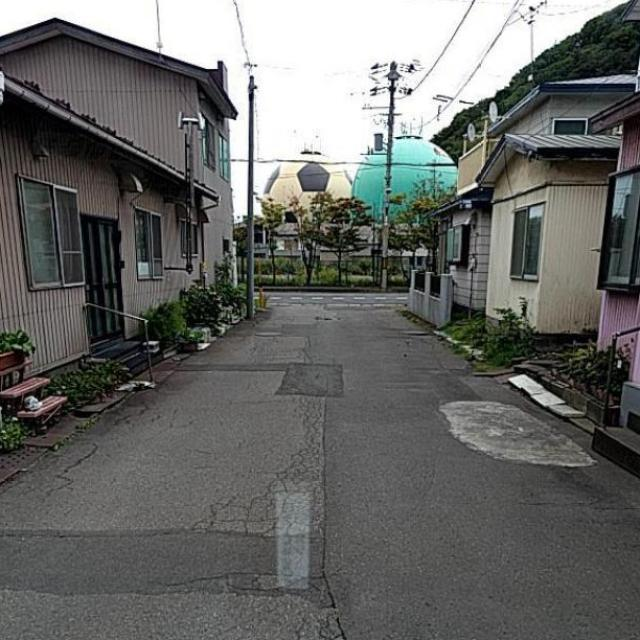Sambungan: (0, 533, 336, 608), (443, 402, 585, 468), (173, 360, 342, 397)
